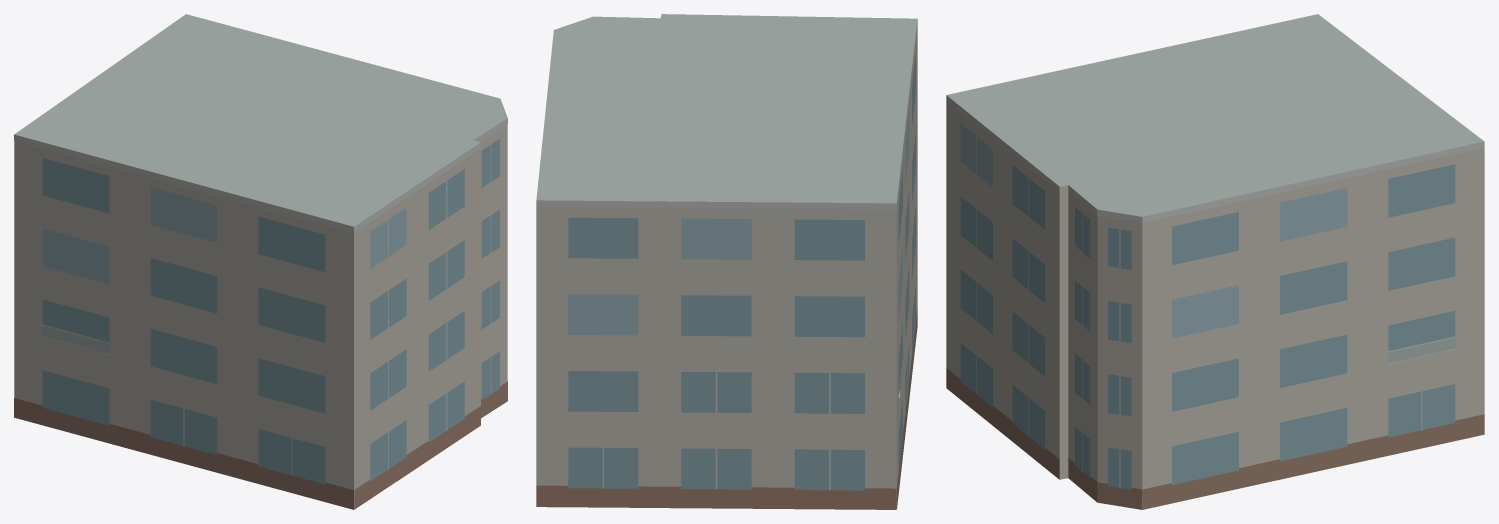
Rendered from survey-upis-32828636.glb.
3 renders of one model, left to right at view 1: azimuth 30°, elevation 25°; view 2: azimuth 150°, elevation 25°; view 3: azimuth 270°, elevation 25°, orthographic. The views are drawn at different scales.
Parts seen in each view (by area): view 1: survey-upis-32828636.tmp; view 2: survey-upis-32828636.tmp; view 3: survey-upis-32828636.tmp.
Part boxes in pixels (x1=…): survey-upis-32828636.tmp: x1=14, y1=14, x2=507, y2=509; survey-upis-32828636.tmp: x1=536, y1=14, x2=917, y2=509; survey-upis-32828636.tmp: x1=946, y1=14, x2=1484, y2=509.
Size of the model in its own units: 16.93 by 11.4 by 18.99.
